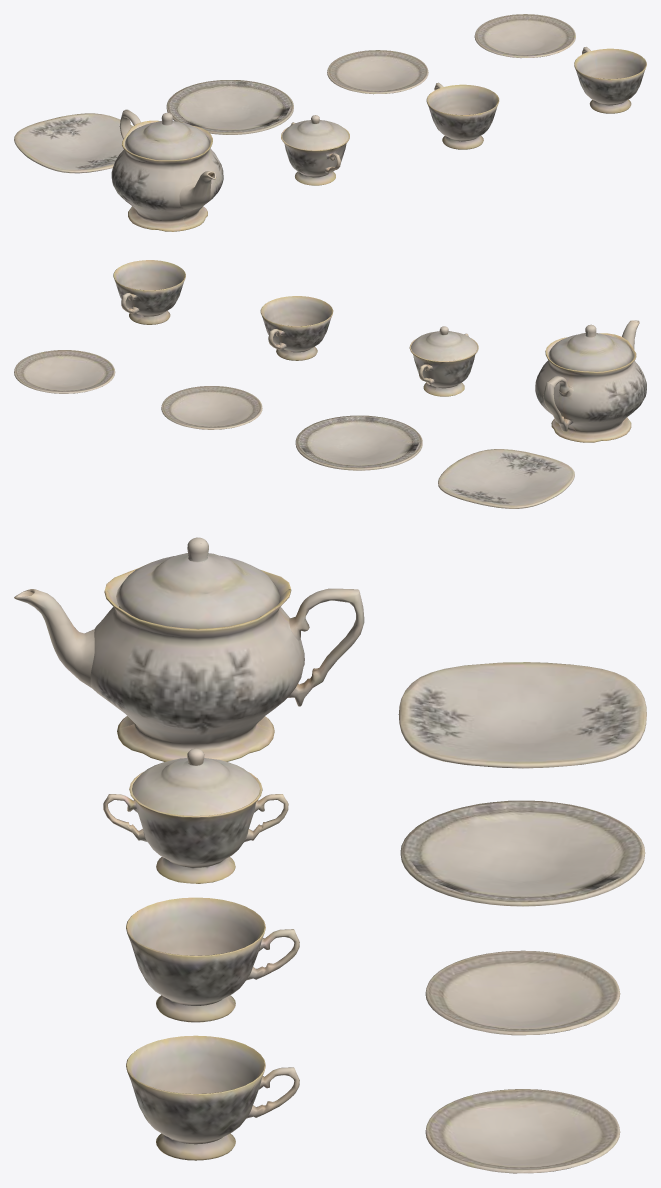
The model's file is ph_tea_set_01.glb.
3 renders of one model, top to bottom at view 1: azimuth 30°, elevation 25°; view 2: azimuth 150°, elevation 25°; view 3: azimuth 270°, elevation 25°, orthographic. The views are drawn at different scales.
Visible parts, largest first — view 1: tea_set_01_plate_large_square_01; view 2: tea_set_01_plate_large_square_01; view 3: tea_set_01_plate_large_square_01.
Boxes of the visible parts, left/top/right/bottom form: tea_set_01_plate_large_square_01: left=14, top=14, right=646, bottom=231; tea_set_01_plate_large_square_01: left=14, top=260, right=646, bottom=508; tea_set_01_plate_large_square_01: left=14, top=537, right=646, bottom=1173.
Bounding box in the file's own units: 0.9184 × 0.1651 × 0.484.
Materials: 1 (1 with a texture image).
